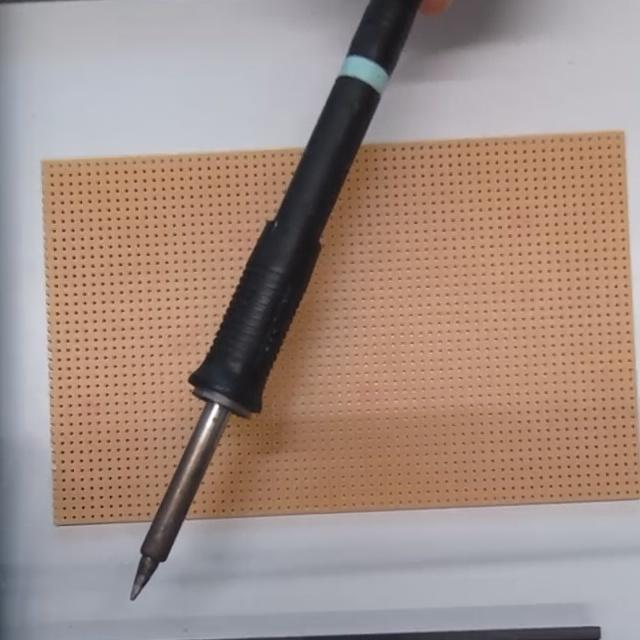soldering_iron: (127, 0, 419, 601)
